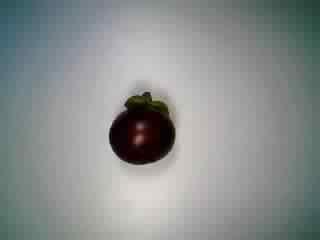mangosteen: (97, 87, 175, 167)
